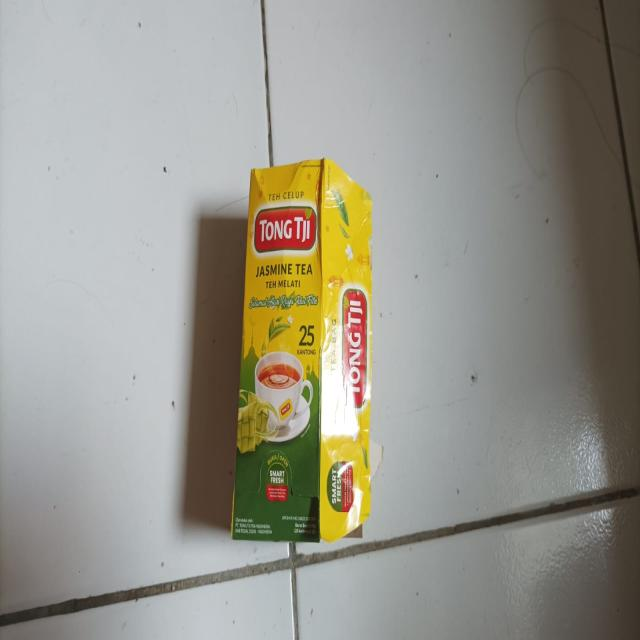Organik: (232, 156, 382, 543)
